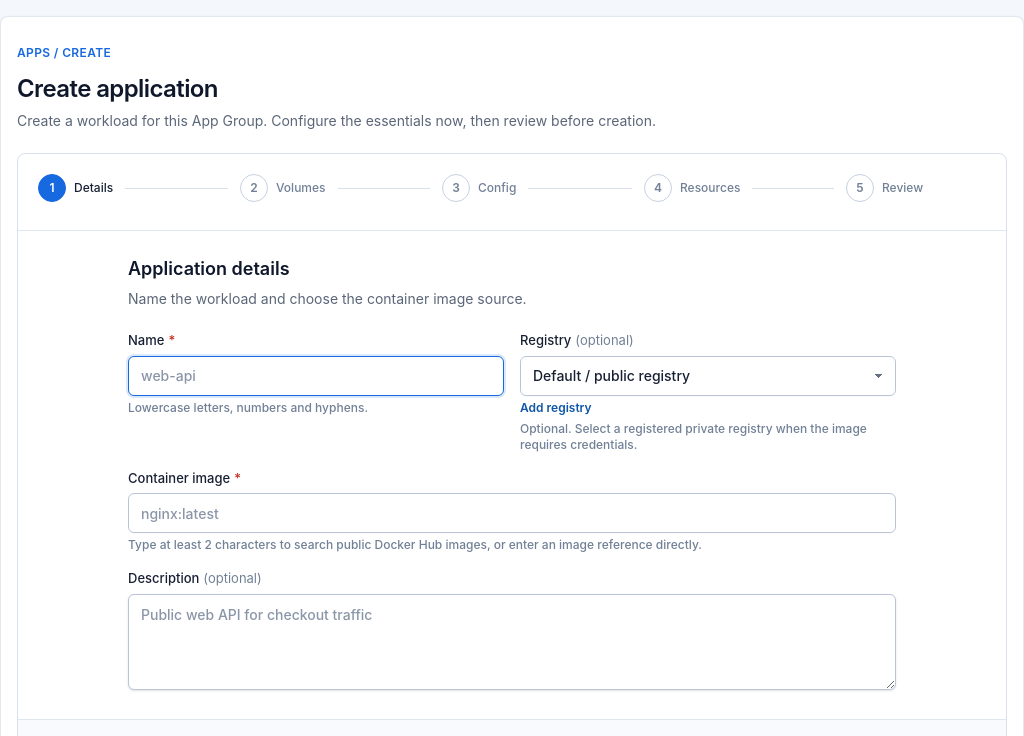
Test: CreateApplicationWizard › suggests matching public images when no private registry is selected
The image size is (1024, 736).
In the field with placeholder "nginx:latest": (512, 513) 128,493 -> 896,533, type "ngi"
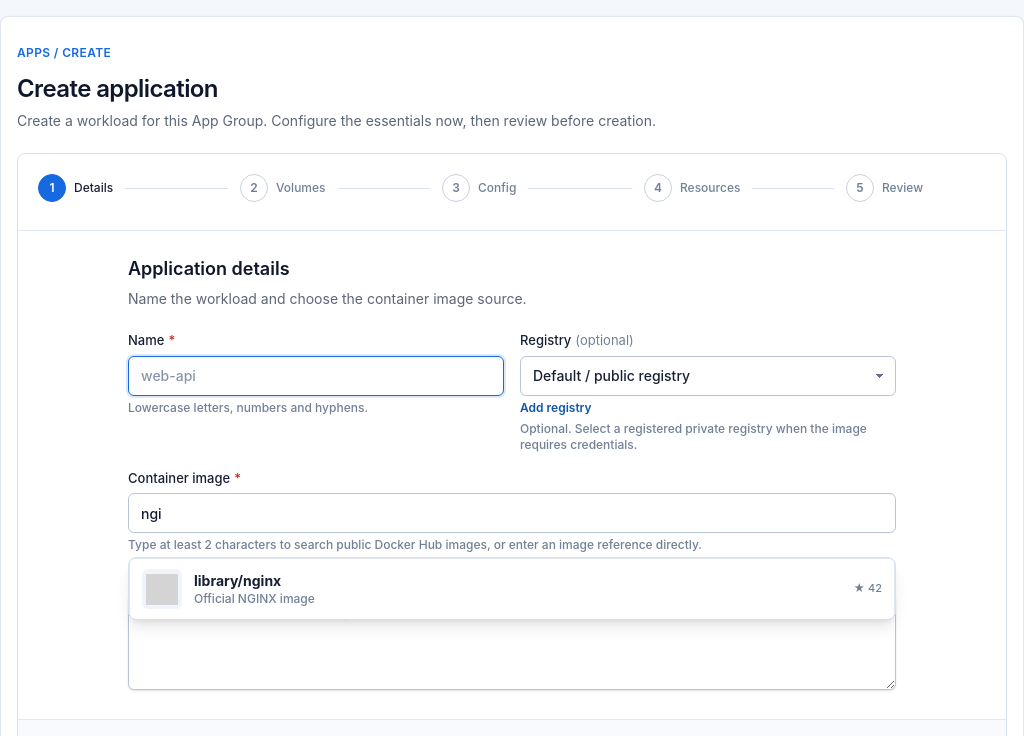
Click the option "library/nginx Official NGINX image ★ 42": (162, 589) 129,558 -> 895,619
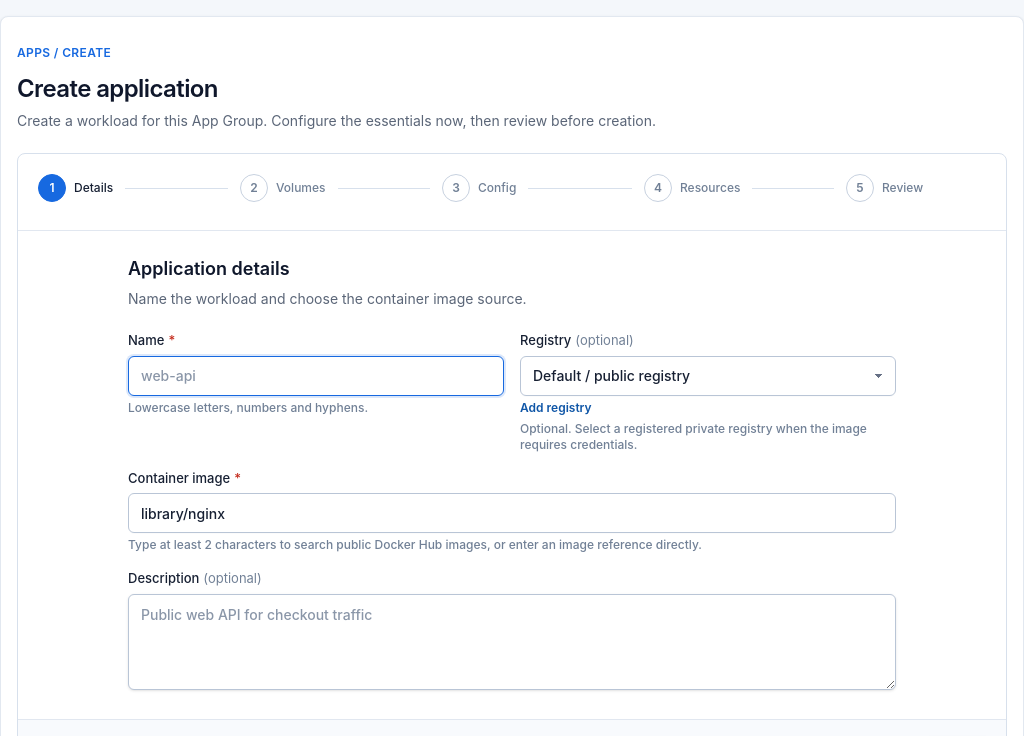
Expected: the field with placeholder "nginx:latest" holds "library/nginx", 128,493 -> 896,533
